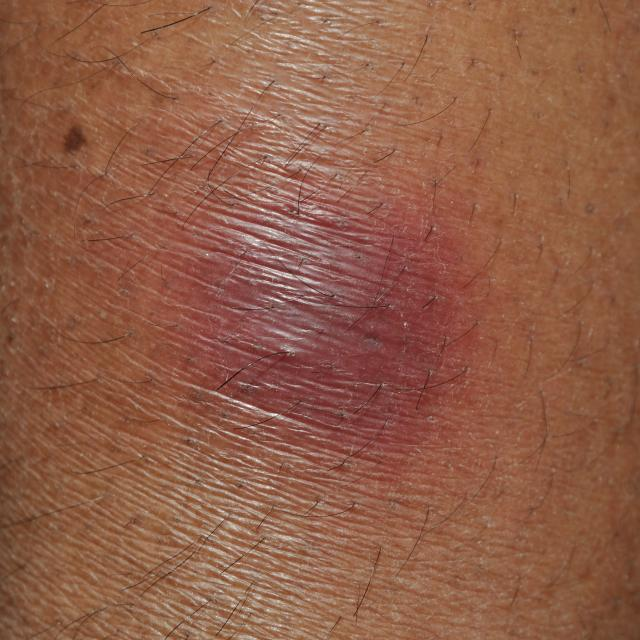Erythema nodosum: (37, 0, 580, 606)
